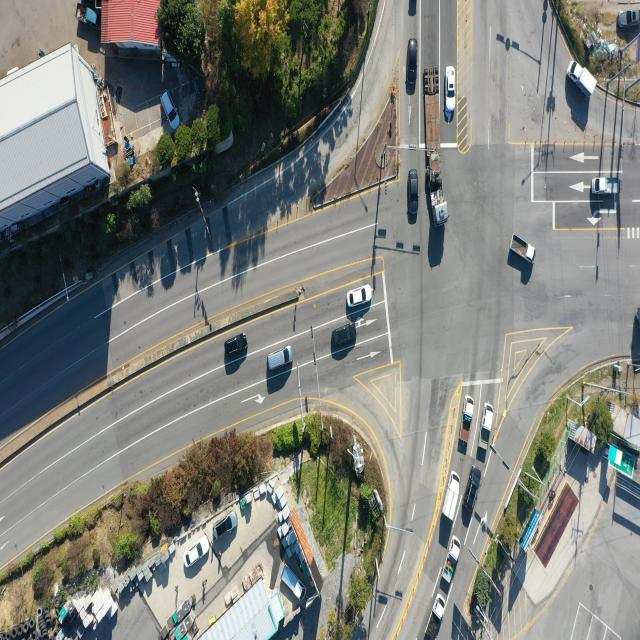car: (160, 93, 179, 133), (186, 538, 210, 569), (464, 468, 480, 513), (213, 514, 237, 544), (268, 352, 295, 378), (347, 284, 372, 308), (332, 325, 357, 349), (223, 335, 247, 359), (409, 168, 420, 218), (446, 66, 456, 115), (617, 8, 640, 27), (409, 38, 418, 86), (410, 0, 418, 18)
large_truck: (421, 69, 447, 227)
small_truck: (439, 535, 462, 592), (280, 566, 309, 604), (567, 59, 595, 98), (440, 470, 460, 523), (424, 594, 446, 640), (461, 399, 477, 458), (508, 232, 535, 262), (480, 403, 495, 452), (76, 2, 98, 27), (594, 180, 620, 199)
